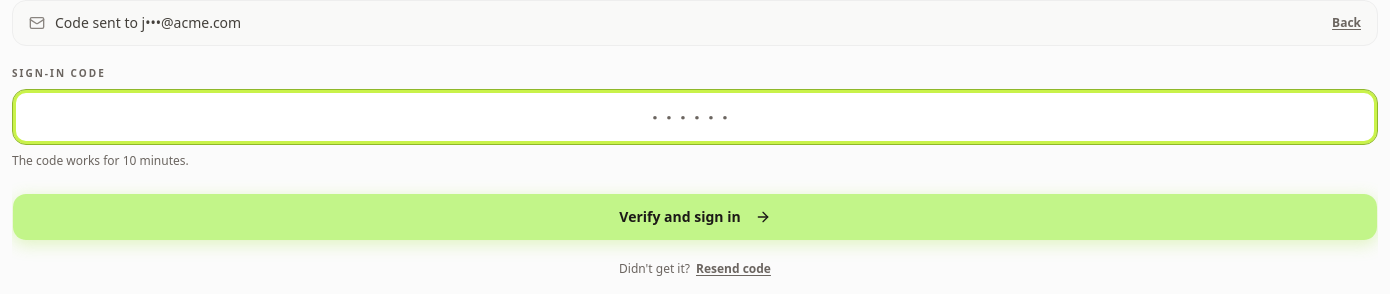
it: CodeStep › resending › falls back to sign-in when the challenge died before the resend
What coordinates should you click on to do the following:
click the button "Resend code"
I would click on:
 (734, 269)
Its box is x1=696 y1=261 x2=771 y2=277.
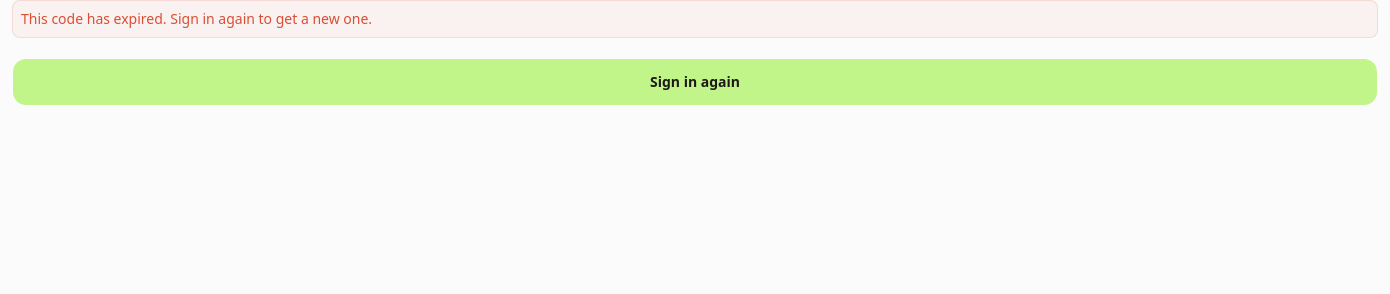
Check: the button "Sign in again" is shown, box x1=12 y1=58 x2=1378 y2=106
